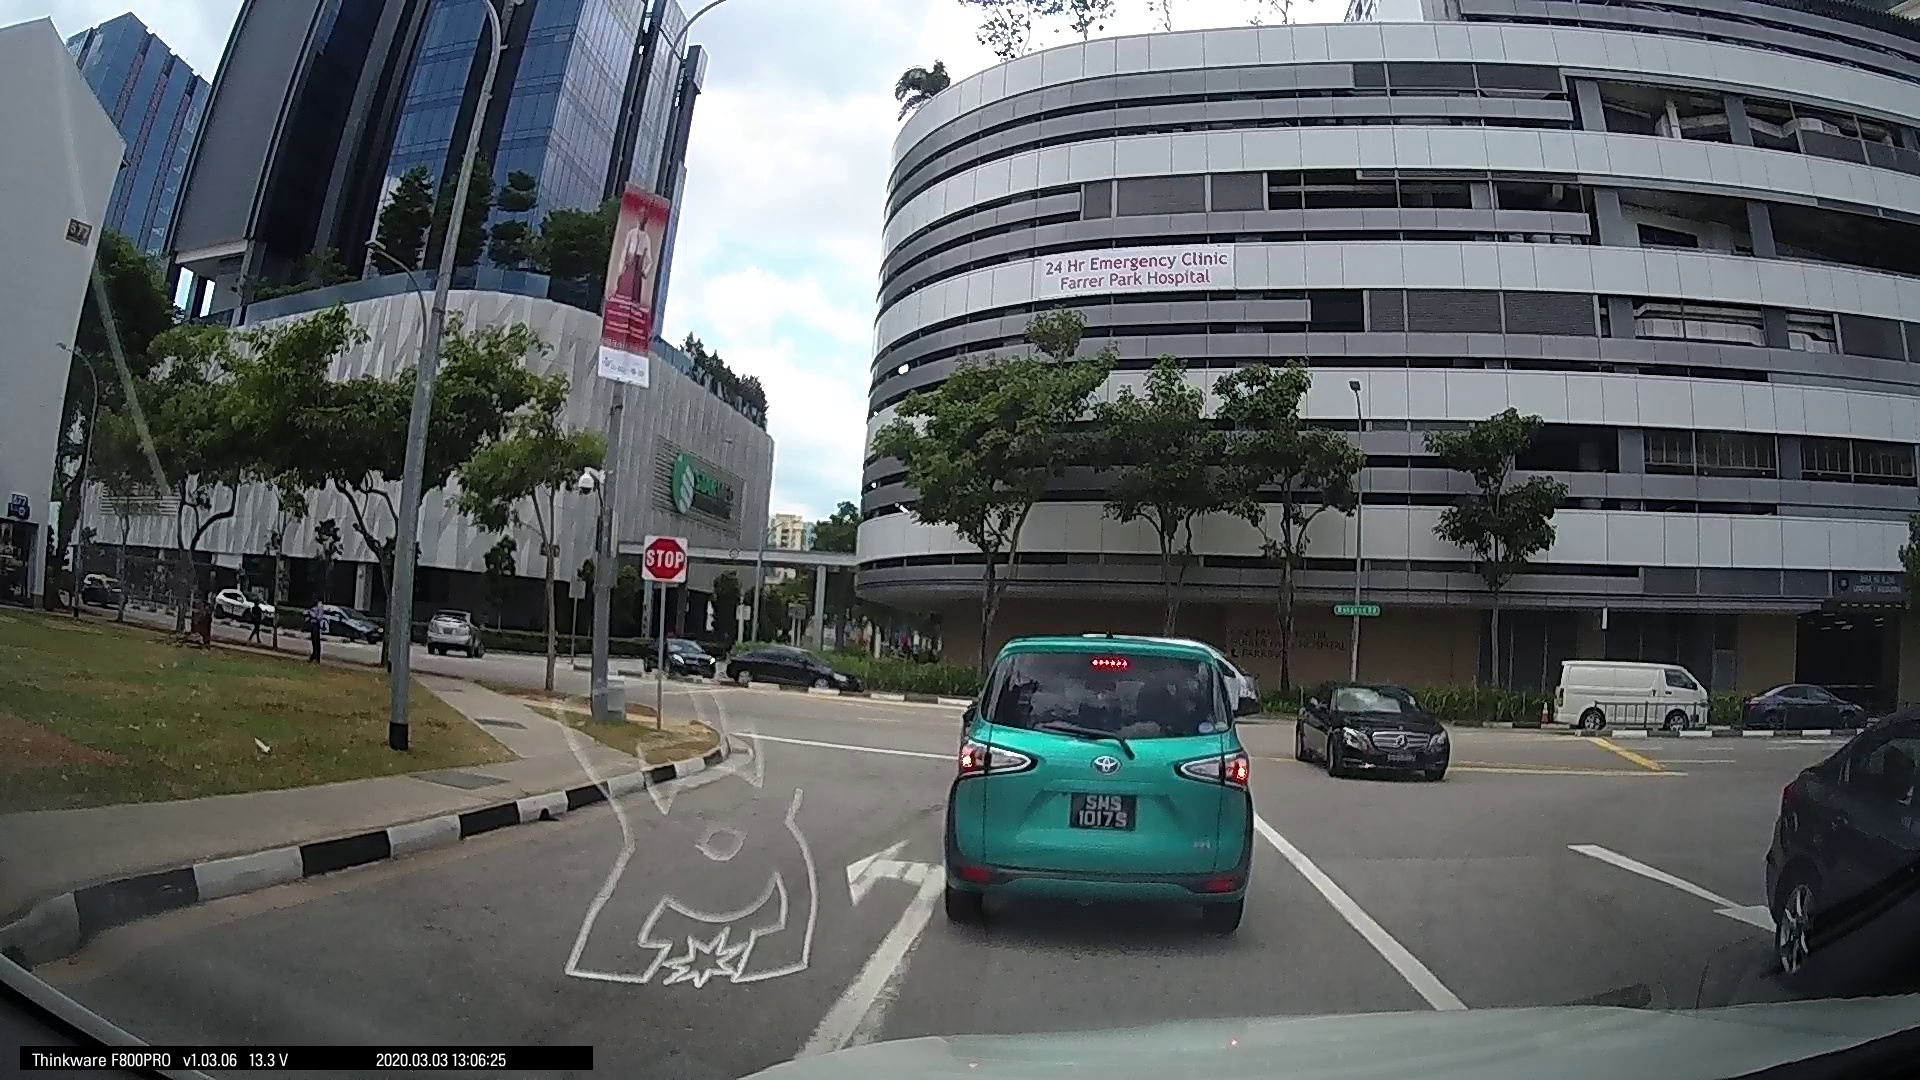Light Vehicle: (928, 615, 1258, 936), (1753, 702, 1917, 996), (1295, 674, 1452, 781), (1549, 651, 1704, 735), (1738, 678, 1863, 735), (717, 640, 837, 688), (418, 603, 483, 659), (644, 634, 717, 676)
